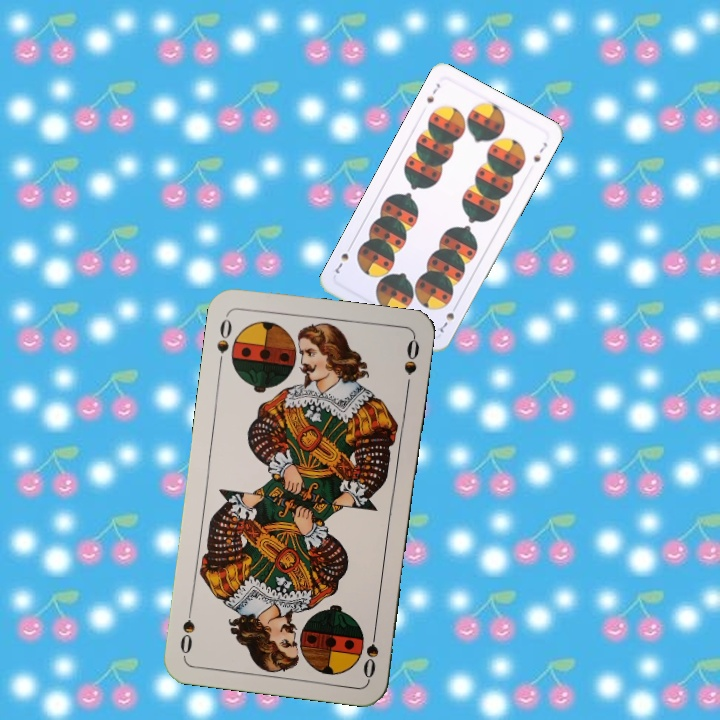S7: (434, 300, 460, 335), (422, 79, 443, 106)
SO: (359, 622, 381, 681), (213, 311, 235, 370)
